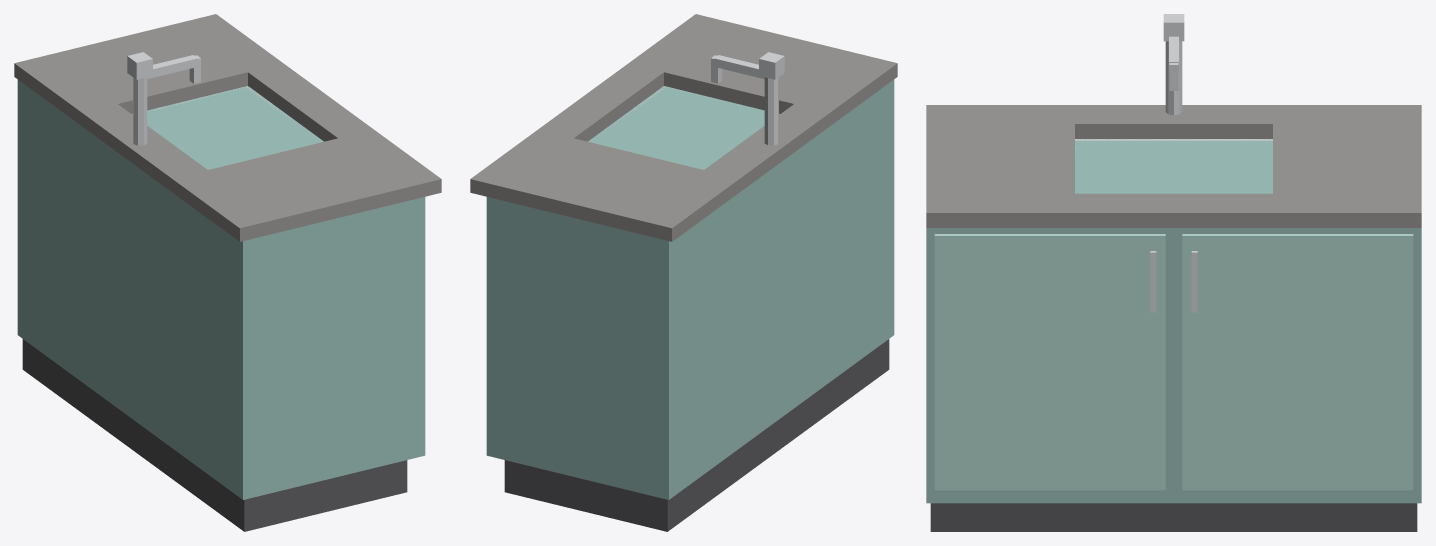
Rendered from sink.glb.
The picture shows the model from 3 angles, left to right: view 1: azimuth 30°, elevation 25°; view 2: azimuth 150°, elevation 25°; view 3: azimuth 270°, elevation 25°; orthographic projection. The views are drawn at different scales.
Bounding box in the file's own units: 0.62 × 1.15 × 1.2.
